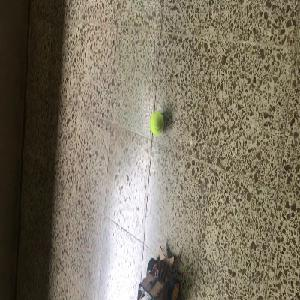Ball: (149, 112, 164, 134)
Robot: (138, 243, 180, 298)
